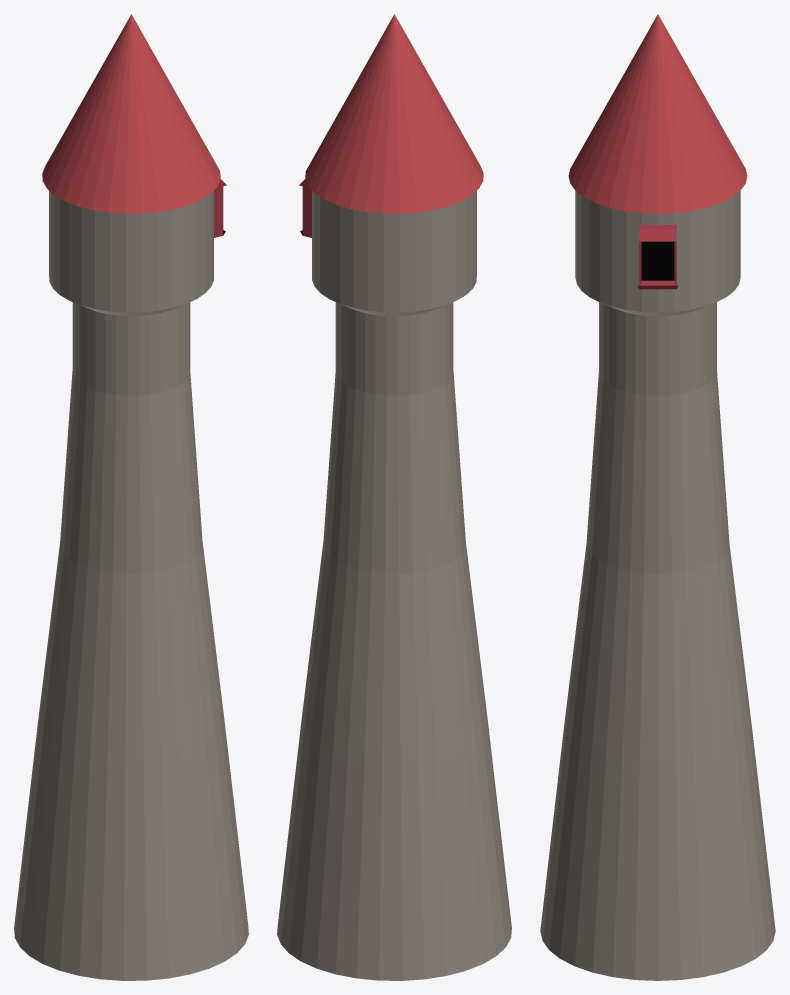
Rendered from PrincessTower.fbx.
3 views of the same model, side by side, from view 1: azimuth 30°, elevation 25°; view 2: azimuth 150°, elevation 25°; view 3: azimuth 270°, elevation 25° (orthographic).
Visible parts, largest first — view 1: Cone; view 2: Cone; view 3: Cone.
Boxes of the visible parts, box(x1,y1,x2,y2) form: Cone: box(14, 14, 248, 980); Cone: box(277, 14, 511, 980); Cone: box(540, 14, 775, 980).
Bounding box in the file's own units: 2.63 × 2.63 × 11.31.
